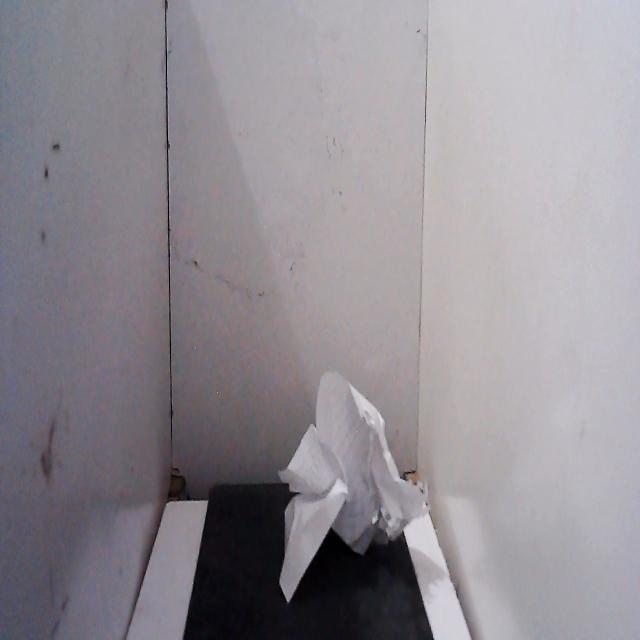papel: (277, 360, 434, 616)
